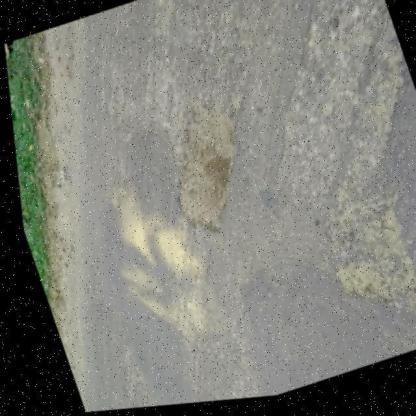pothole: (133, 78, 266, 252)
